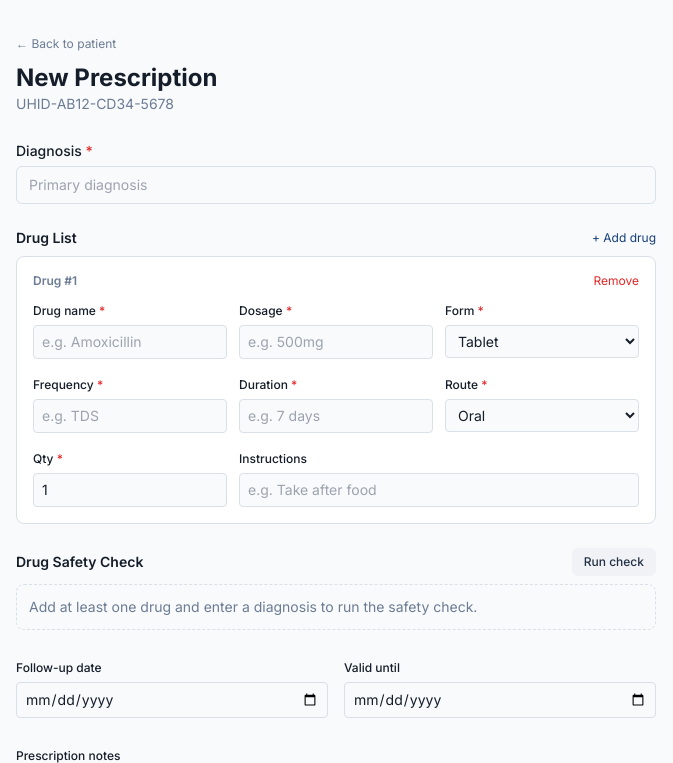
NewPrescriptionPage — Drug list builder › adds a new drug row when clicking add-drug-btn
This screenshot has width=673, height=763.
Click the button with test id "add-drug-btn" at (624, 238), box [592, 230, 656, 246]
(page scrolled)
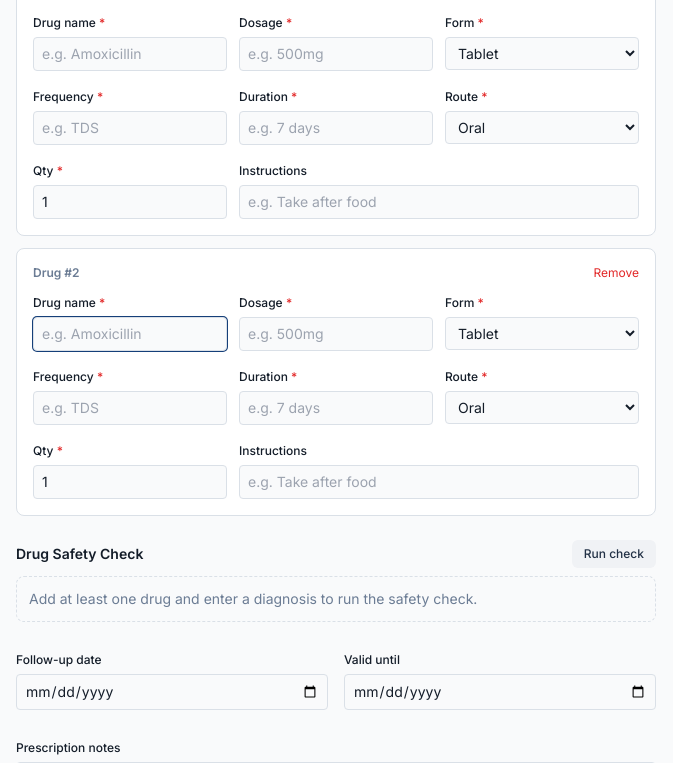
Result: the element with test id "drug-row-1" is shown at [16, 248, 656, 516]
